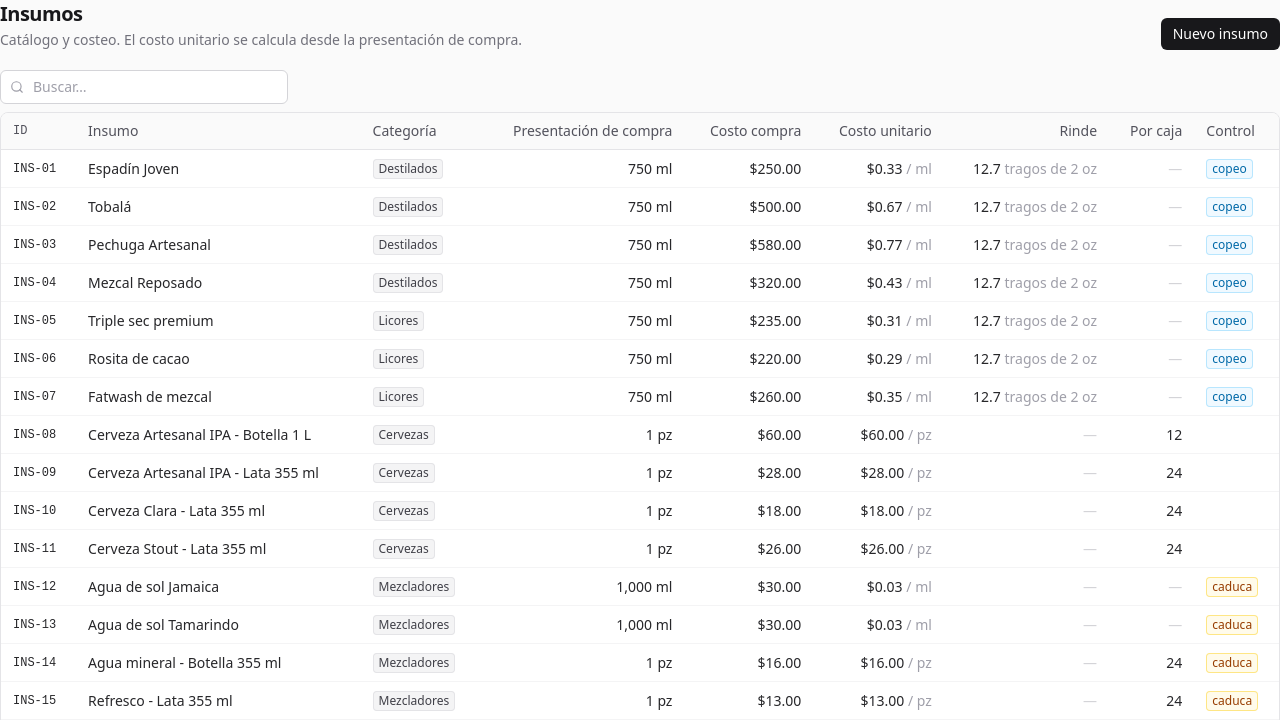
<InsumosPage> › la búsqueda filtra el catálogo
Type "agua de sol" into the field named "Buscar en la tabla" at (144,87), box [0,70,288,104]
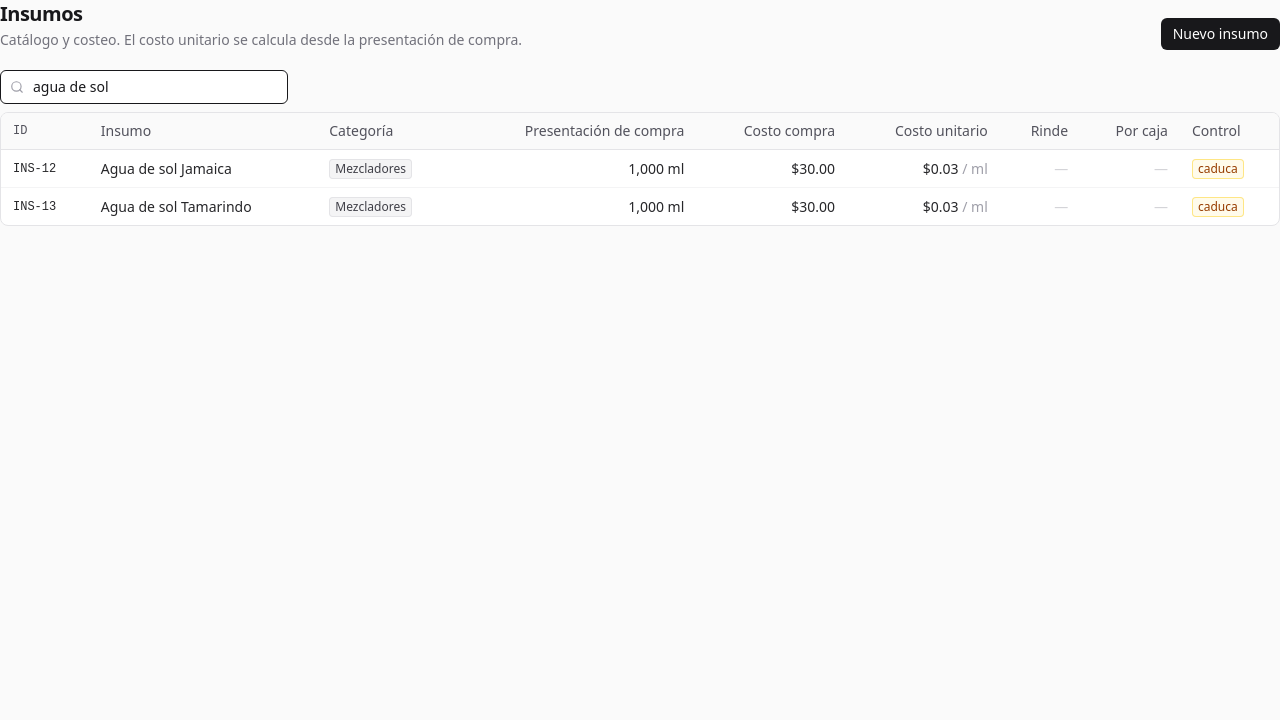
Expected: the number of rows is 3, [1,113,1279,150]; [1,150,1279,188]; [1,188,1279,225]
